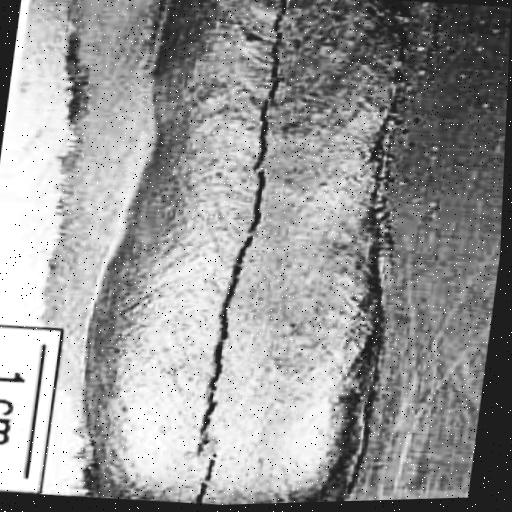crack: (183, 0, 299, 506)
